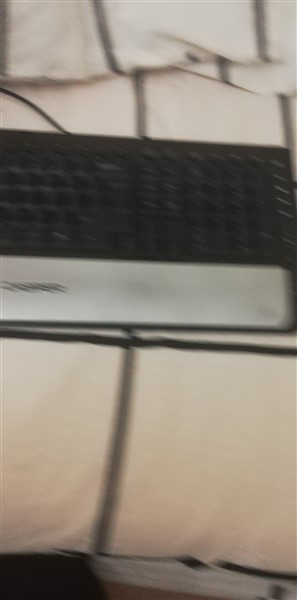klavye: (1, 126, 294, 338)
